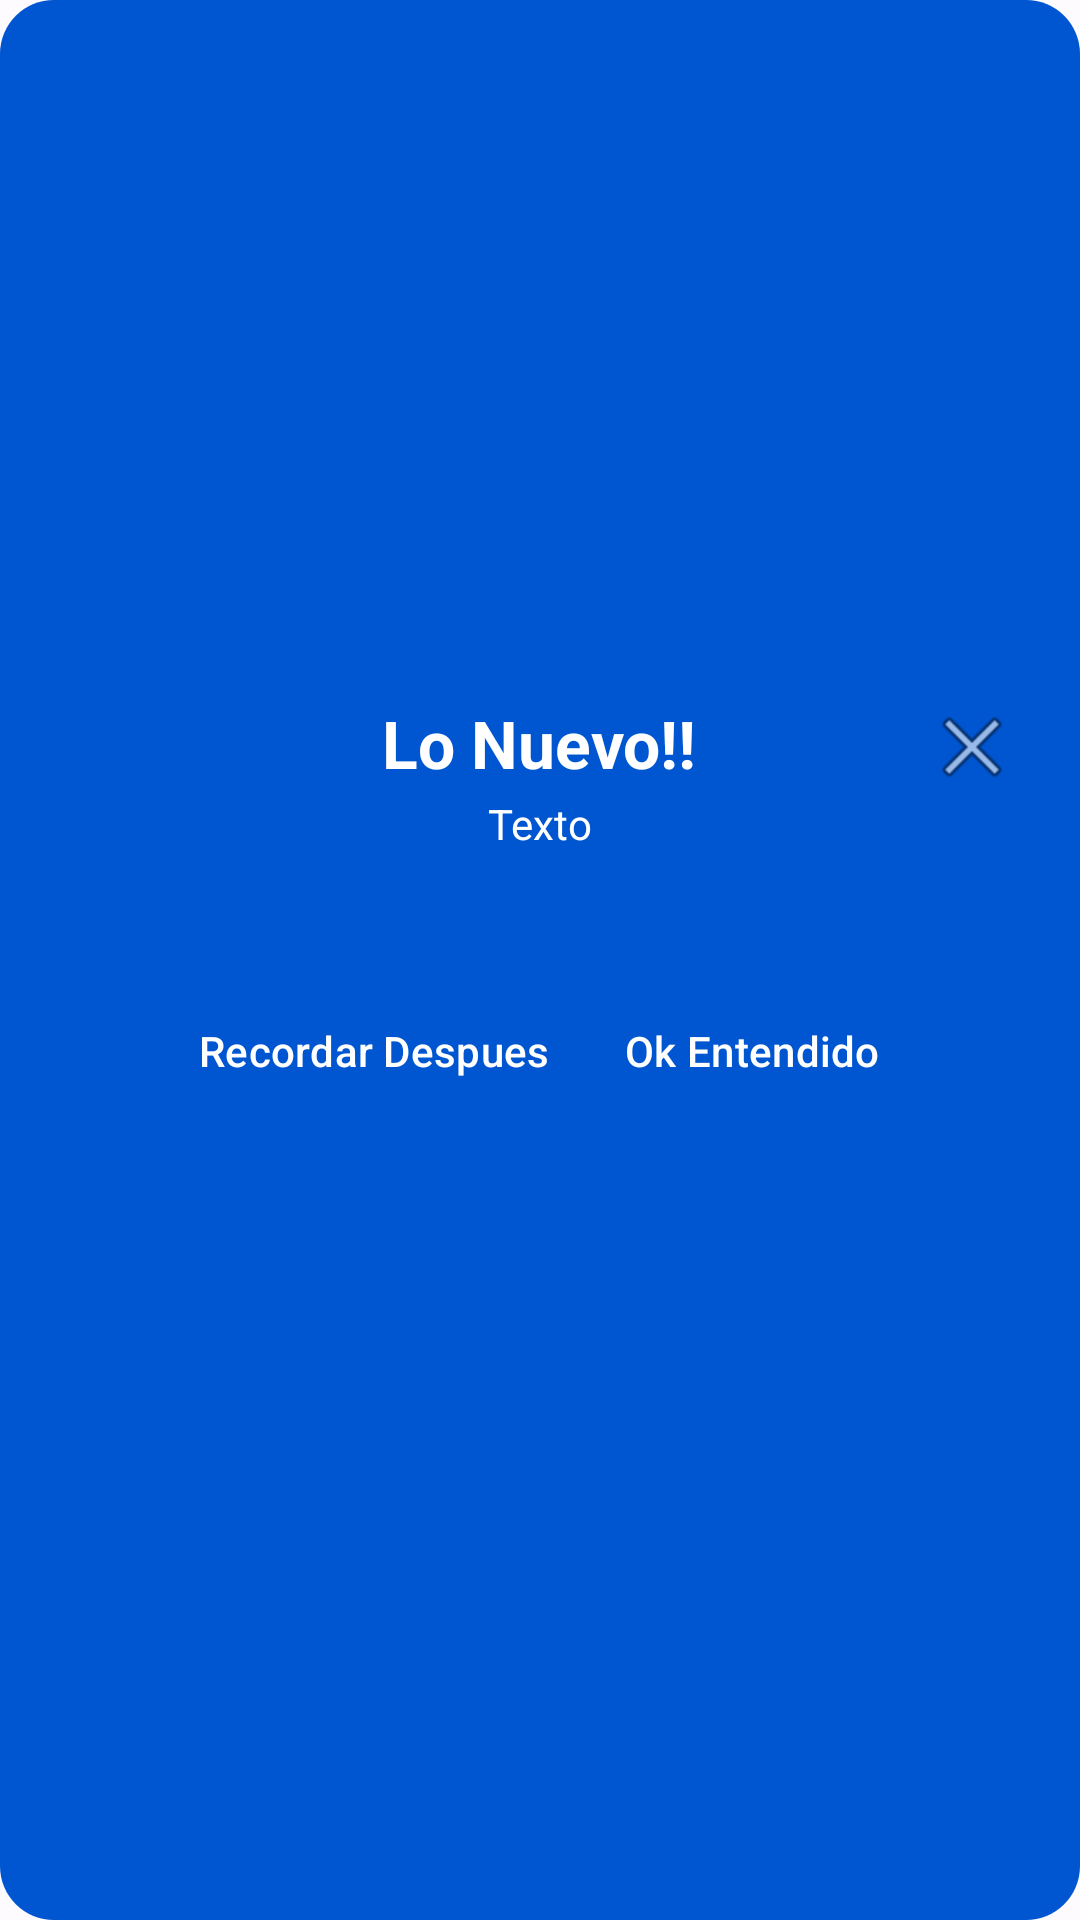

Screen size 1080×1920. Icon name, then its center in pixels as [x,y]:
close clear cancel: [972,747]
